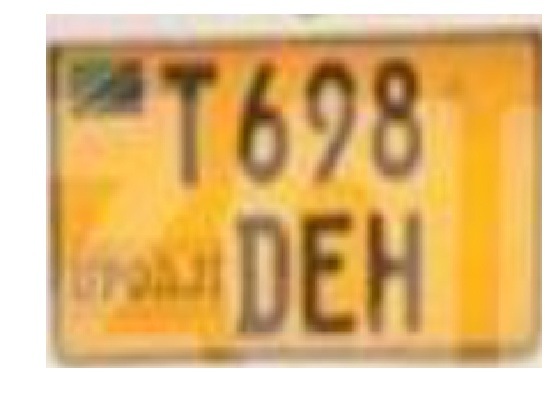T: (147, 50, 230, 195)
